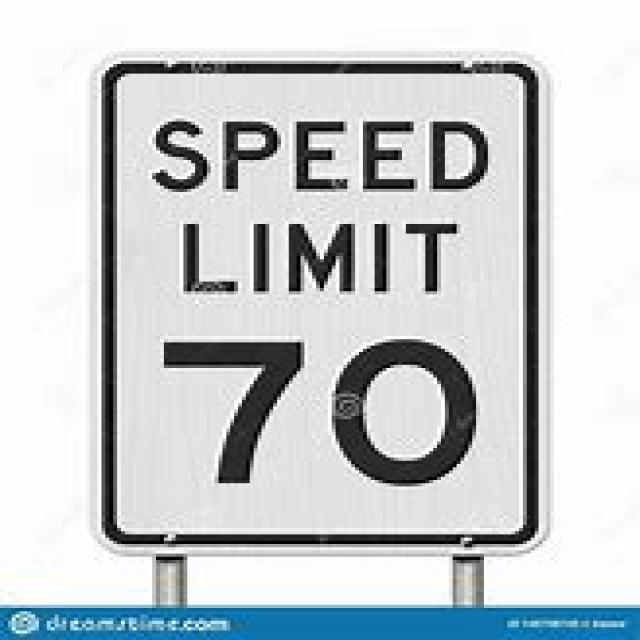speedLimit70: (94, 49, 538, 562)
